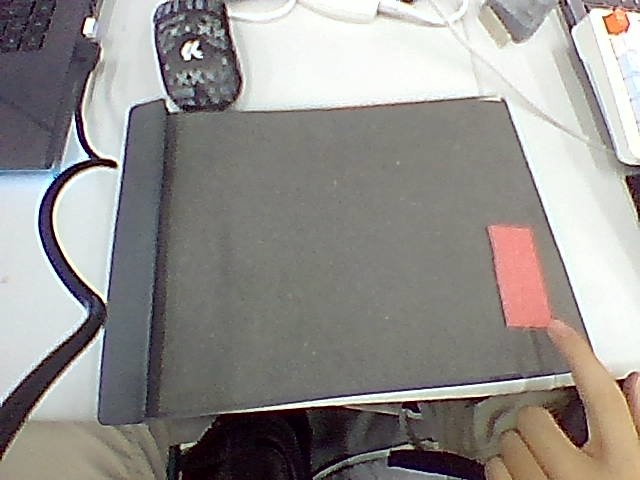card: (488, 225, 551, 327)
